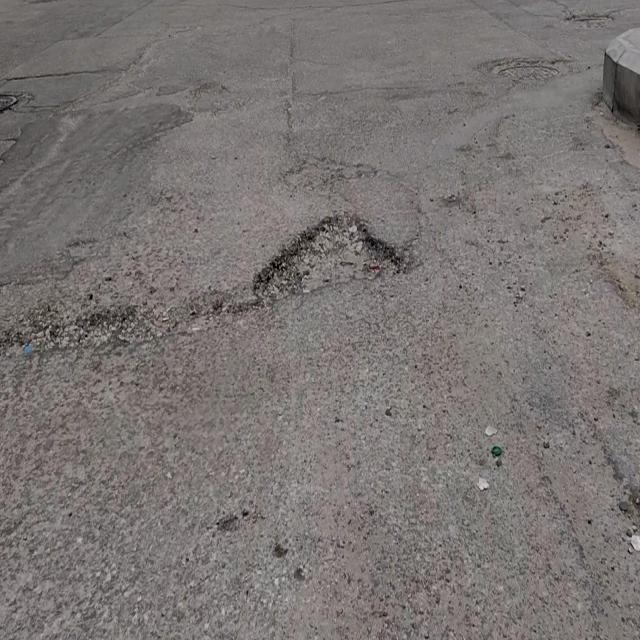Potholes: (255, 215, 400, 301)
